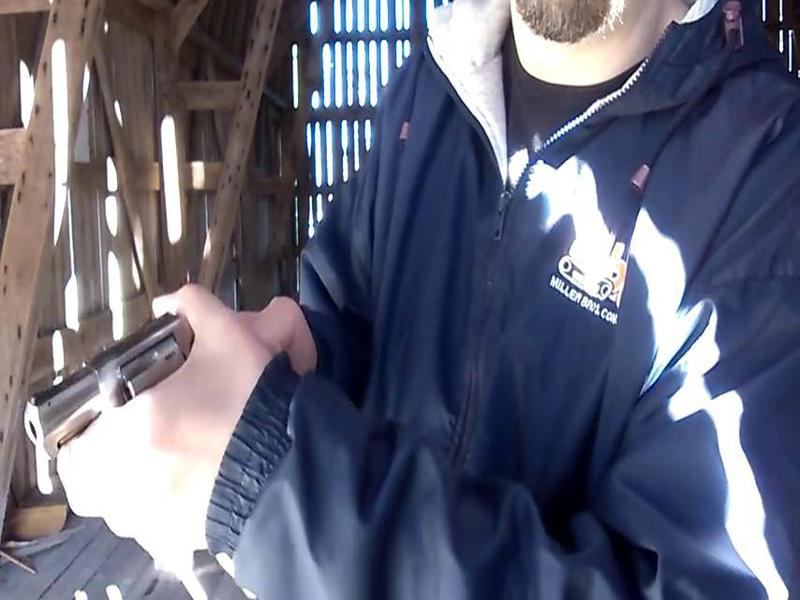Revolver: (27, 308, 207, 465)
